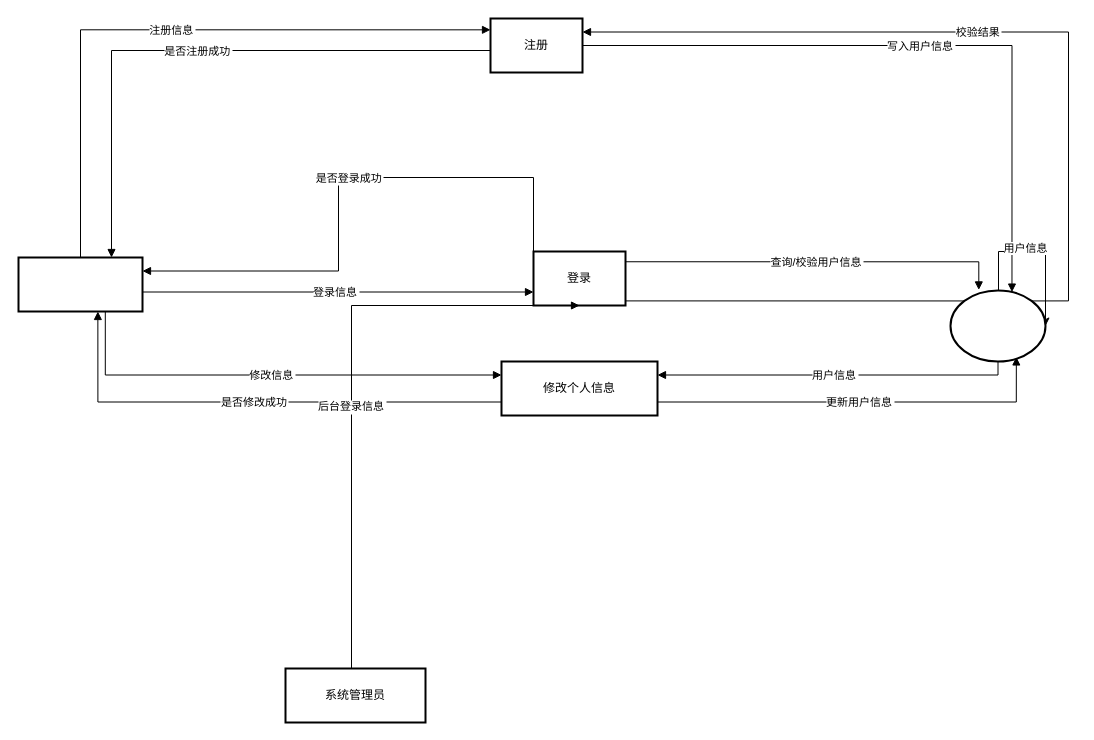
Image size: 1094x740. Some labels were removed from this diagram. Here are the shapes that lost their labels. From the top down, the centre of each, then its label:
At point (80, 284): "普通用户".
At point (997, 325): "用户信息表".
